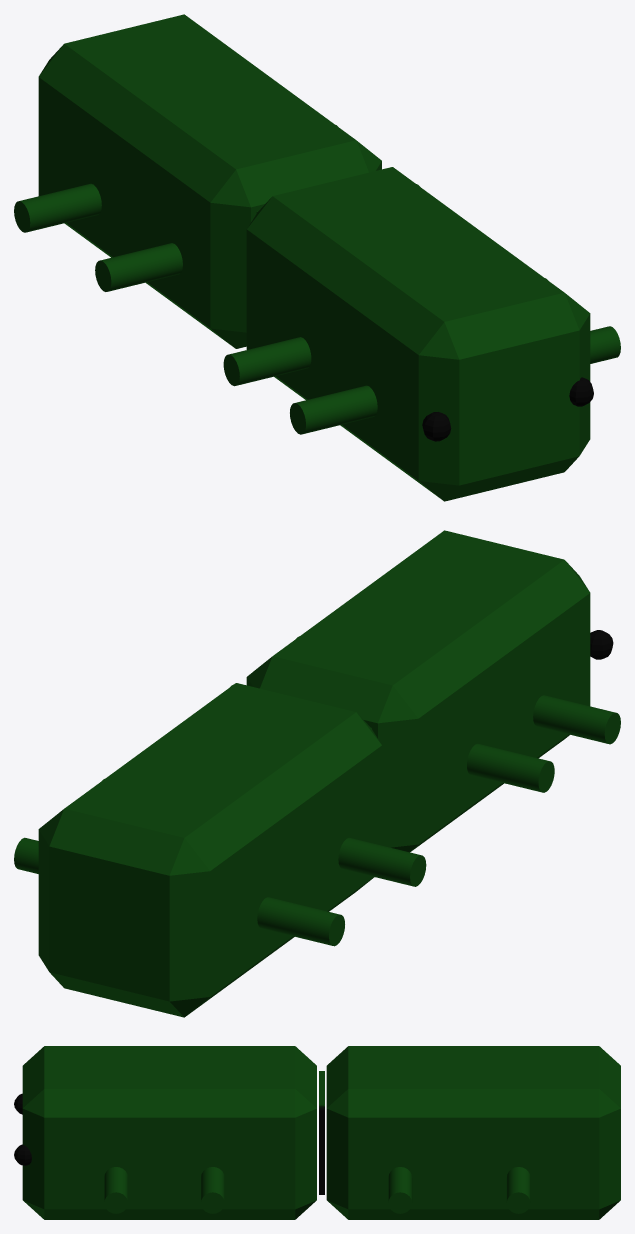
File: ryokunoukin.obj
The picture shows the model from 3 angles, top to bottom: view 1: azimuth 30°, elevation 25°; view 2: azimuth 150°, elevation 25°; view 3: azimuth 270°, elevation 25°; orthographic projection. The views are drawn at different scales.
Visible parts, largest first — view 1: pCube1, pasted__pCube1 group, pCylinder1, pasted__pCylinder1 group6, pasted__pasted__pCylinder1 pasted__group6 group7, pasted__pasted__pasted__pCylinder1 pasted__pasted__group6 pasted, pSphere1; view 2: pasted__pCube1 group, pCube1, pasted__pasted__pasted__pCylinder1 pasted__pasted__group6 pasted, pasted__pCylinder1 group6, pCylinder1, pasted__pasted__pCylinder1 pasted__group6 group7; view 3: pasted__pCube1 group, pCube1, pasted__pasted__pasted__pCylinder1 pasted__pasted__group6 pasted, pasted__pasted__pCylinder1 pasted__group6 group7, pCylinder1, pasted__pCylinder1 group6, pCube2, pSphere2.
Boxes of the visible parts, x1,y1,x2,y2 form: pCube1: (246, 167, 590, 501); pasted__pCube1 group: (38, 14, 381, 348); pCylinder1: (290, 326, 620, 434); pasted__pCylinder1 group6: (223, 278, 548, 386); pasted__pasted__pCylinder1 pasted__group6 group7: (95, 184, 419, 291); pasted__pasted__pasted__pCylinder1 pasted__pasted__group6 pasted: (14, 125, 337, 232); pSphere1: (422, 412, 451, 441); pasted__pCube1 group: (38, 683, 381, 1017); pCube1: (246, 530, 590, 852); pasted__pasted__pasted__pCylinder1 pasted__pasted__group6 pasted: (14, 837, 344, 946); pasted__pCylinder1 group6: (230, 684, 554, 792); pCylinder1: (296, 636, 620, 744); pasted__pasted__pCylinder1 pasted__group6 group7: (102, 779, 426, 886); pasted__pCube1 group: (326, 1046, 620, 1219); pCube1: (22, 1046, 316, 1219); pasted__pasted__pasted__pCylinder1 pasted__pasted__group6 pasted: (506, 1167, 530, 1213); pasted__pasted__pCylinder1 pasted__group6 group7: (388, 1167, 412, 1213); pCylinder1: (104, 1167, 127, 1213); pasted__pCylinder1 group6: (201, 1167, 224, 1213); pCube2: (319, 1071, 324, 1194); pSphere2: (14, 1144, 31, 1165).
Size of the model in its own units: 0.6254 by 0.3409 by 1.43.
1 material, 1 textured.
